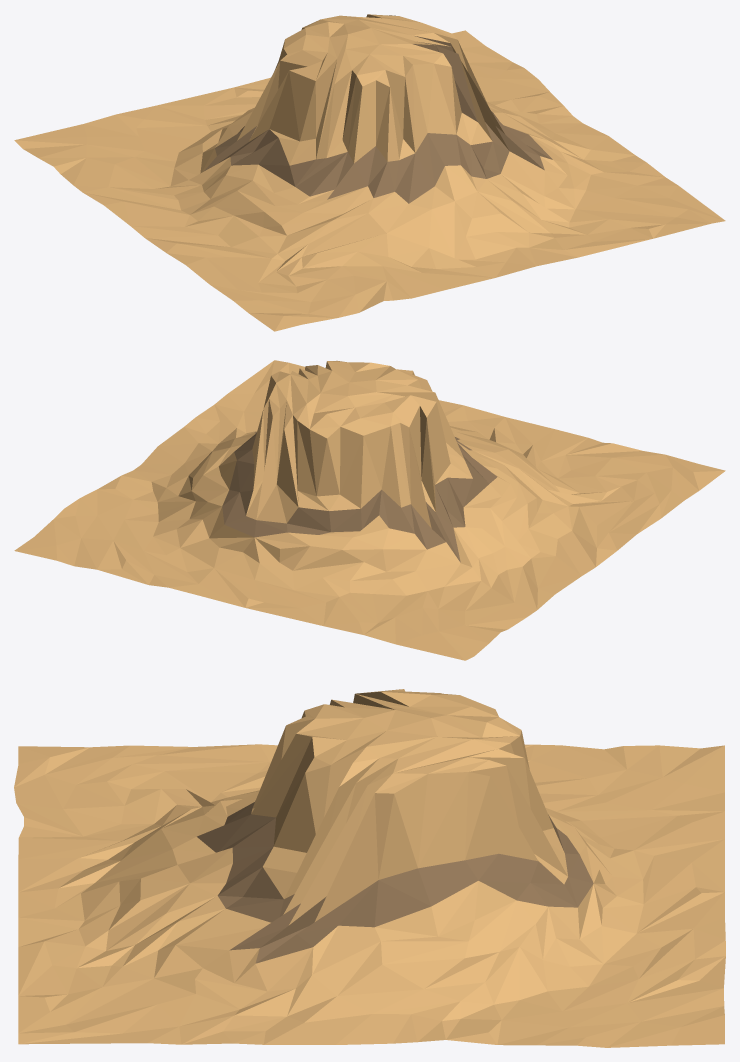
Rendered from landscape.04.fbx.
3 renders of one model, top to bottom at view 1: azimuth 30°, elevation 25°; view 2: azimuth 150°, elevation 25°; view 3: azimuth 270°, elevation 25°, orthographic. The views are drawn at different scales.
Parts seen in each view (by area): view 1: landscape.04; view 2: landscape.04; view 3: landscape.04.
Boxes of the visible parts, bbox=[...] form: landscape.04: bbox=[14, 14, 725, 331]; landscape.04: bbox=[14, 360, 725, 660]; landscape.04: bbox=[14, 689, 725, 1047].
Bounding box in the file's own units: 3407 × 943 × 3386.
